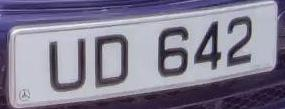2: (224, 11, 256, 73)
4: (189, 16, 228, 75)
6: (154, 19, 194, 87)
D: (92, 29, 135, 91)
U: (44, 33, 92, 94)
